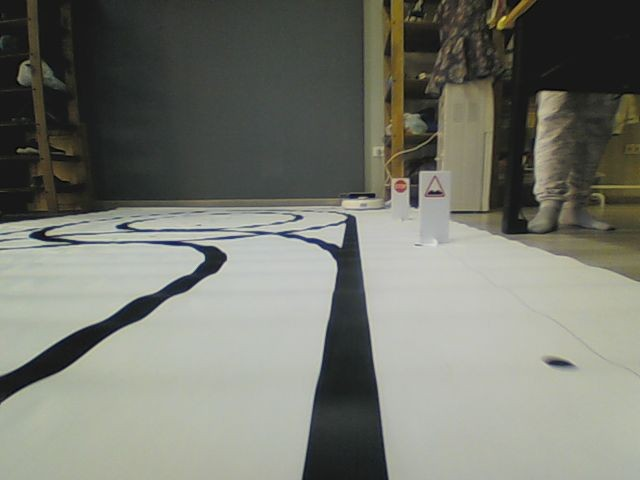Nerov: (422, 175, 446, 198)
